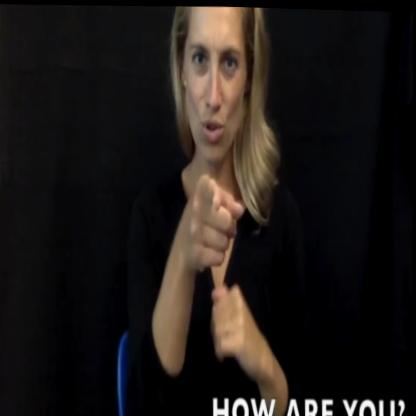HowAreYou: (155, 170, 279, 370)
